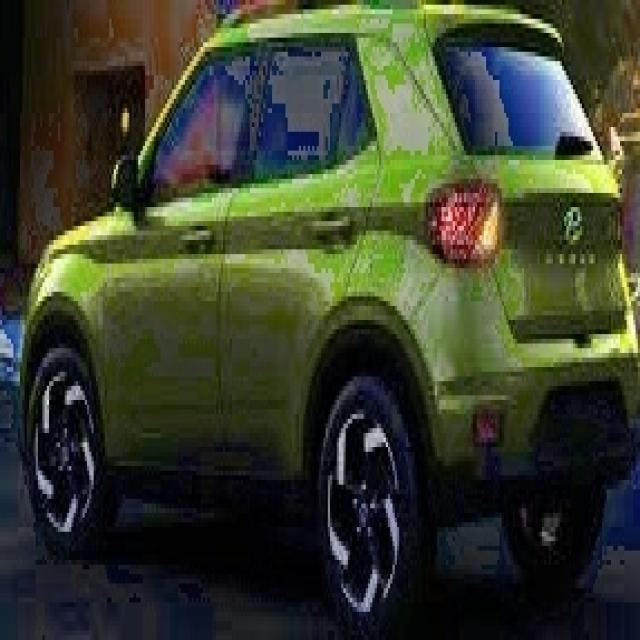green: (18, 9, 640, 640)
